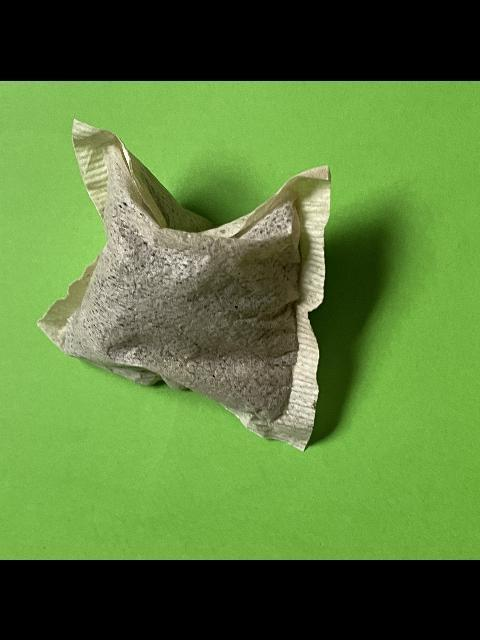teabag: (33, 116, 333, 452)
